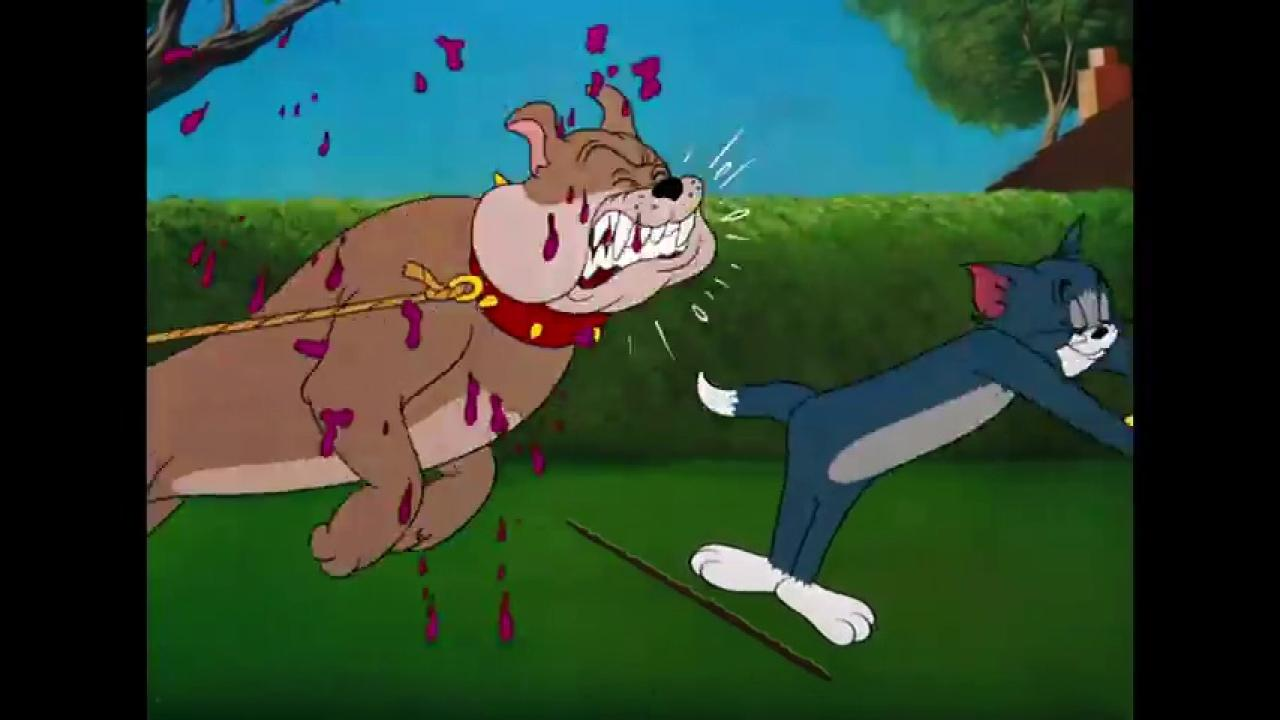Tom: (691, 211, 1133, 648)
